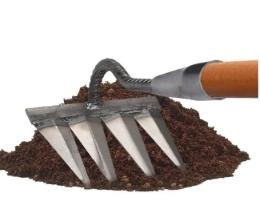HOUE: (10, 0, 260, 211)
